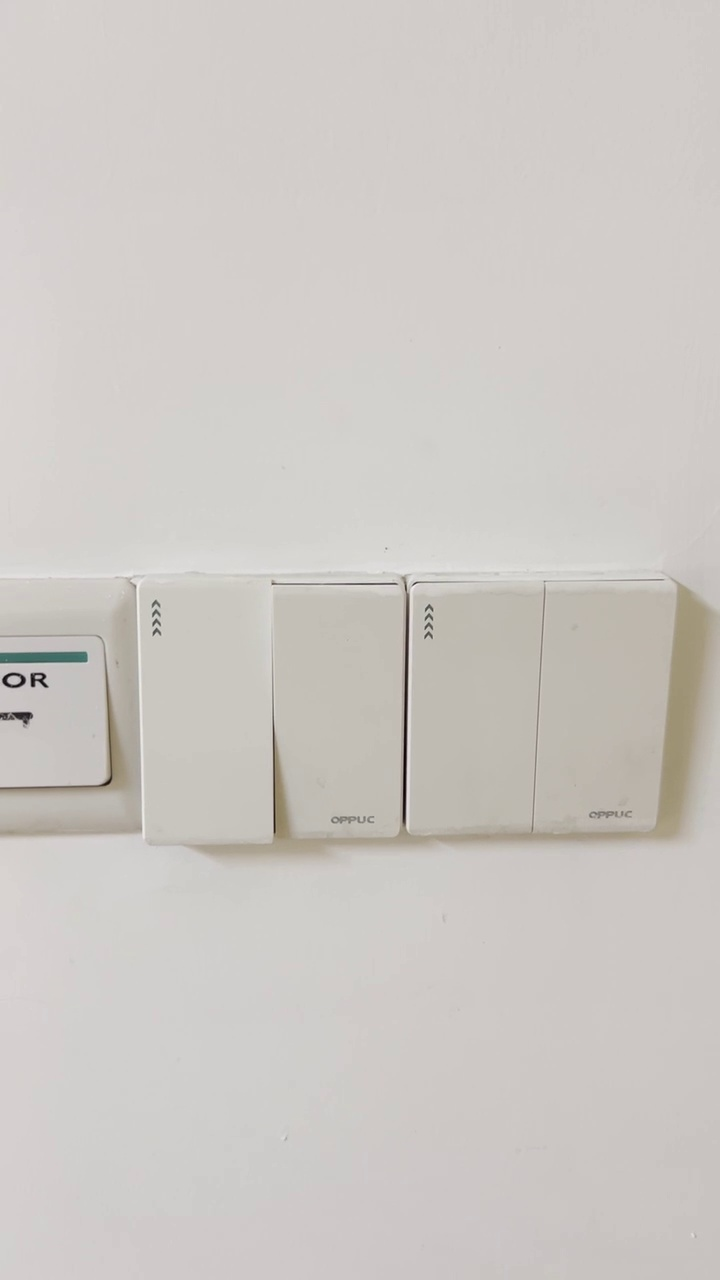button1: (140, 579, 268, 841), (543, 585, 667, 830), (415, 586, 535, 834), (280, 591, 395, 834)
